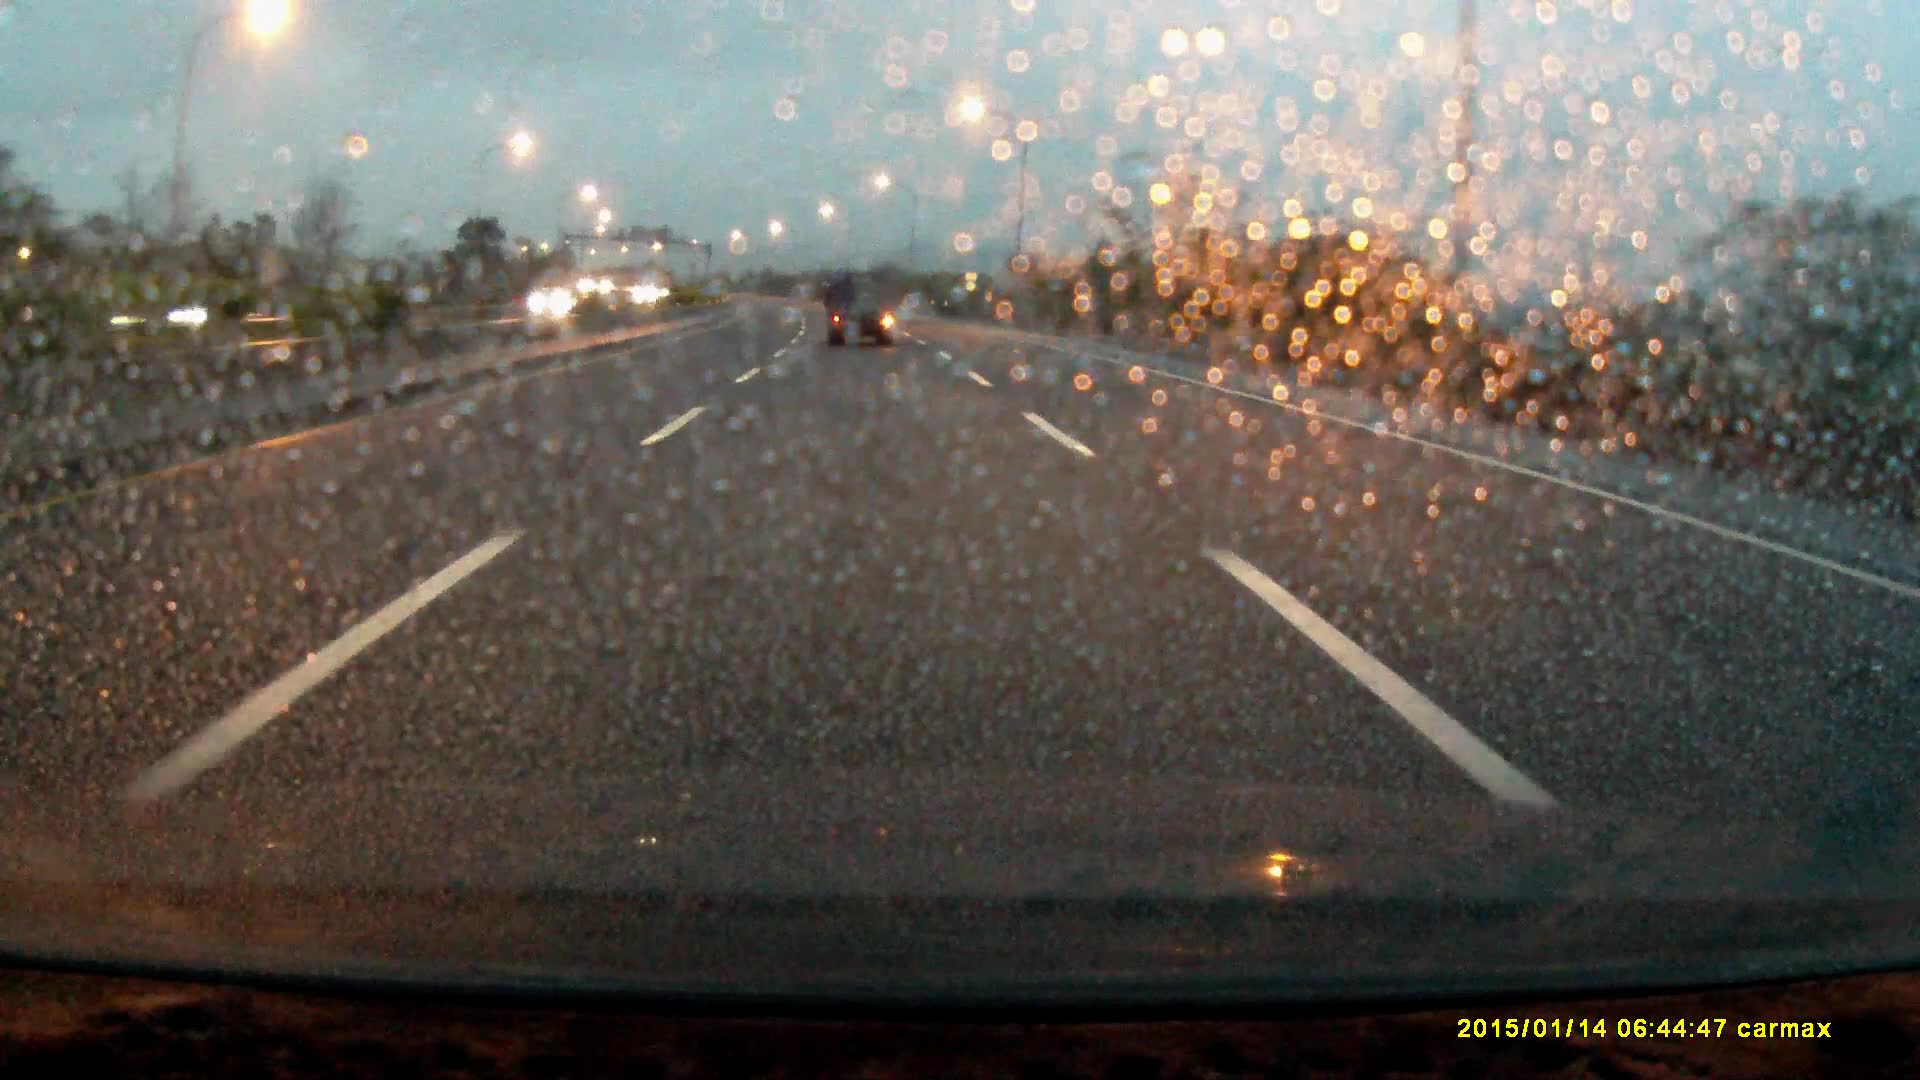vehicle: (828, 277, 895, 351), (529, 287, 592, 318)
